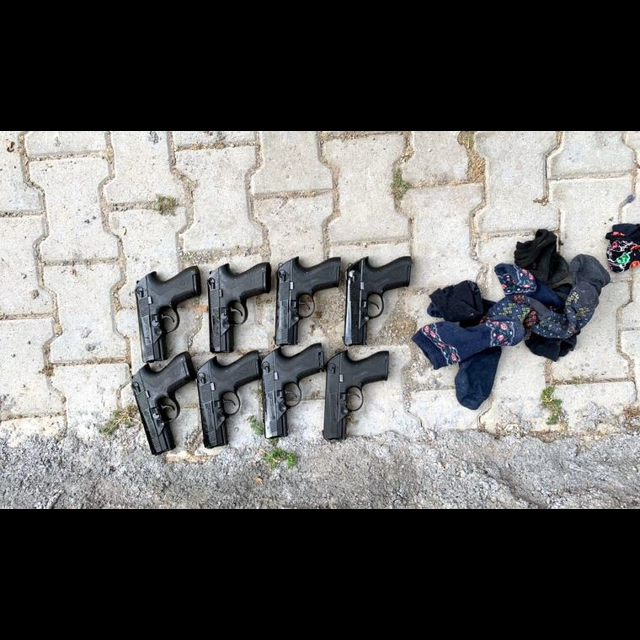SILAH: (116, 261, 201, 361), (264, 249, 341, 346), (324, 348, 398, 445), (341, 252, 412, 341), (205, 257, 270, 352), (260, 350, 317, 442)
